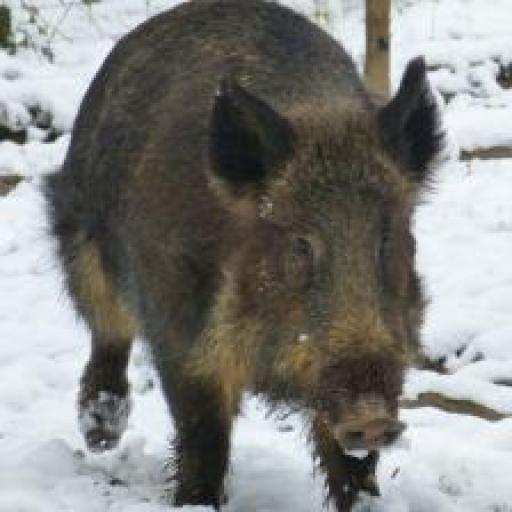Pig: (39, 0, 450, 509)
